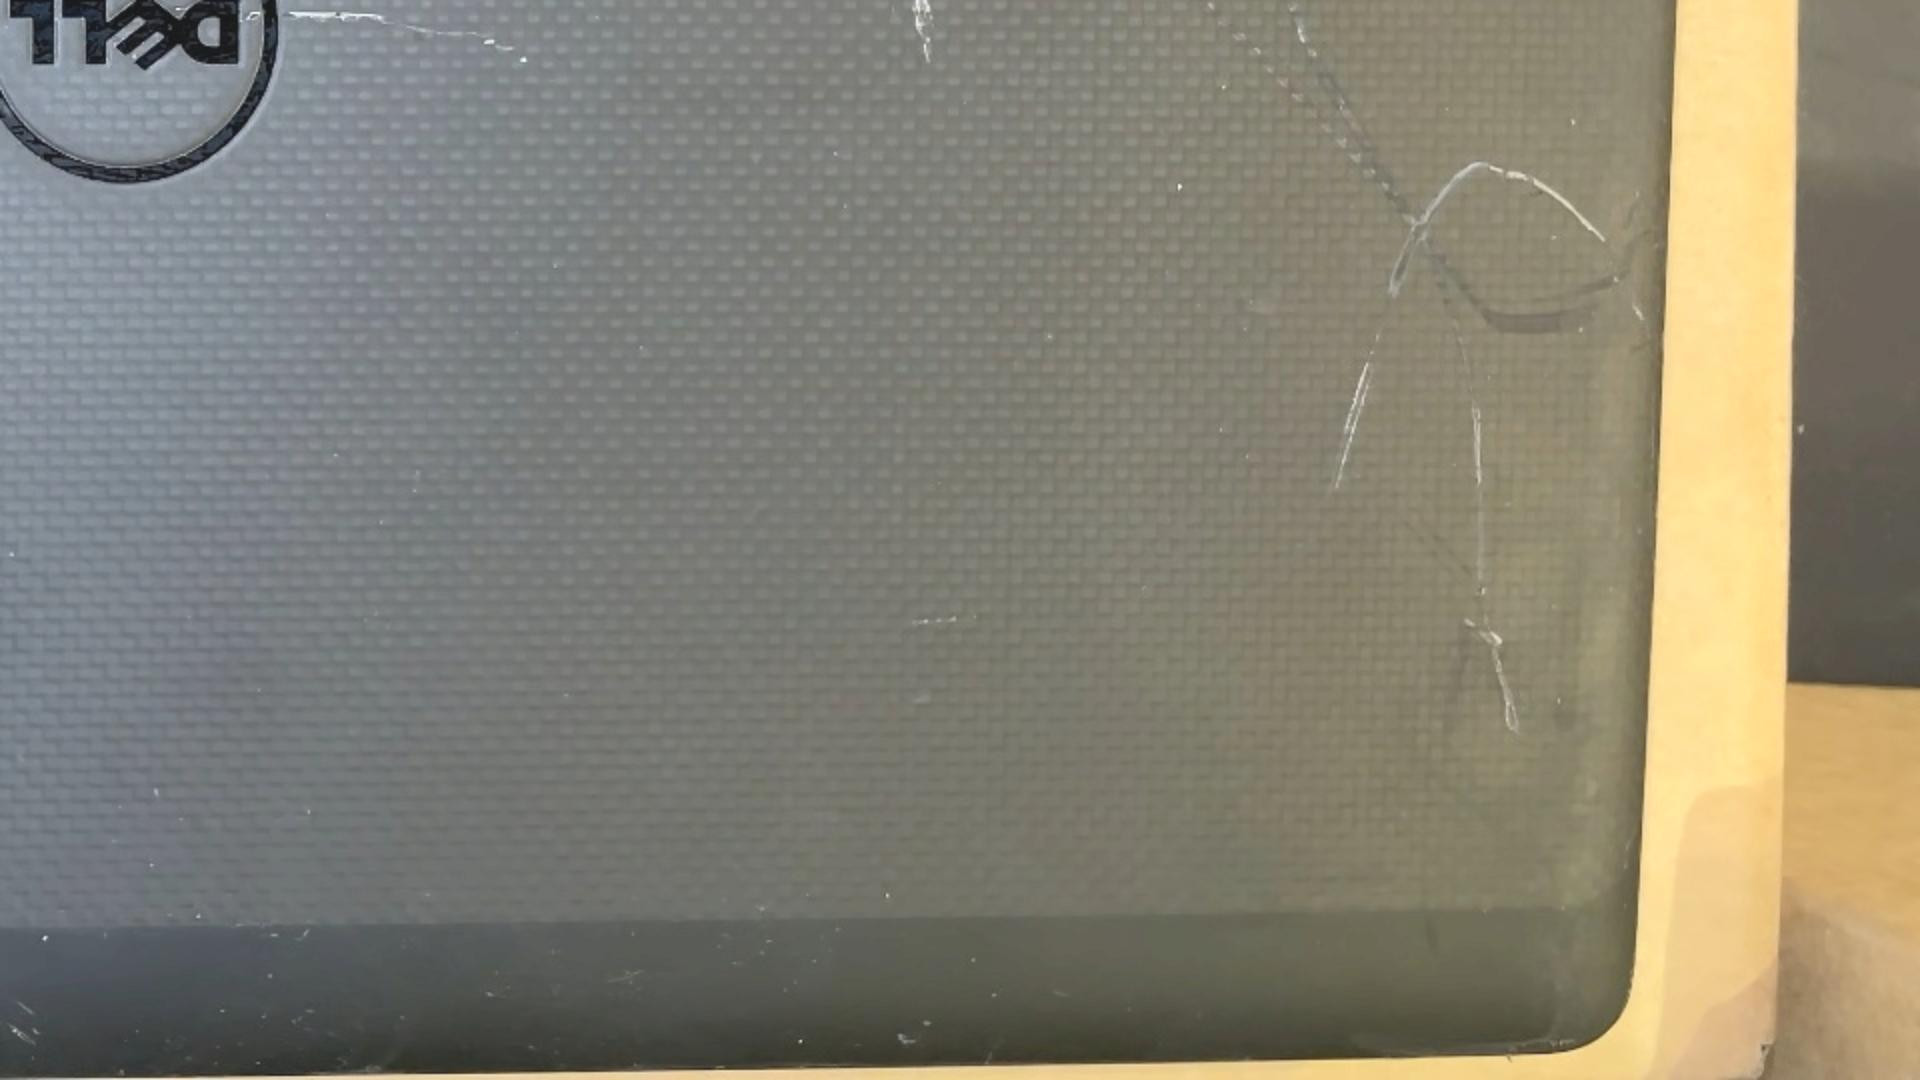chip: (909, 0, 938, 65), (894, 1033, 920, 1047), (149, 787, 164, 802), (38, 934, 54, 944), (301, 926, 313, 939), (265, 971, 276, 982), (1568, 117, 1578, 128), (269, 931, 281, 939), (194, 911, 203, 920), (1176, 182, 1184, 193), (795, 1038, 806, 1046), (922, 1021, 932, 1027), (216, 1007, 227, 1014), (1221, 83, 1229, 91), (971, 955, 978, 963), (885, 891, 891, 899), (990, 993, 997, 998)
scratches: (1282, 0, 1526, 737), (1200, 0, 1602, 338), (26, 0, 534, 66), (1387, 158, 1607, 302), (1333, 371, 1374, 489), (1342, 327, 1383, 435), (907, 611, 964, 630), (5, 1019, 40, 1048), (607, 968, 646, 984), (1630, 301, 1648, 326), (15, 1000, 36, 1017)
